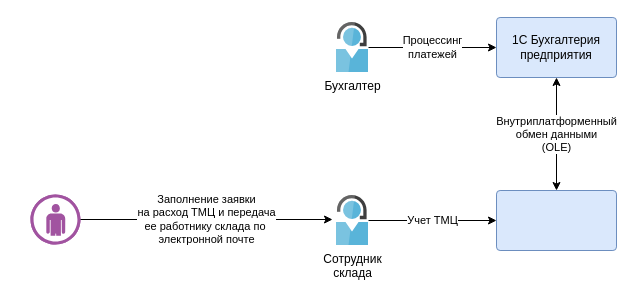
The diagram is 634 pixels wide and 299 high, and some of its shapes have lost their labels. The box of each missing label's shape, as (x1, y1, x2, y2) in pixels:
1C Торговля и склад: (496, 190, 616, 250)
Работник Медикаменте: (30, 194, 80, 244)
